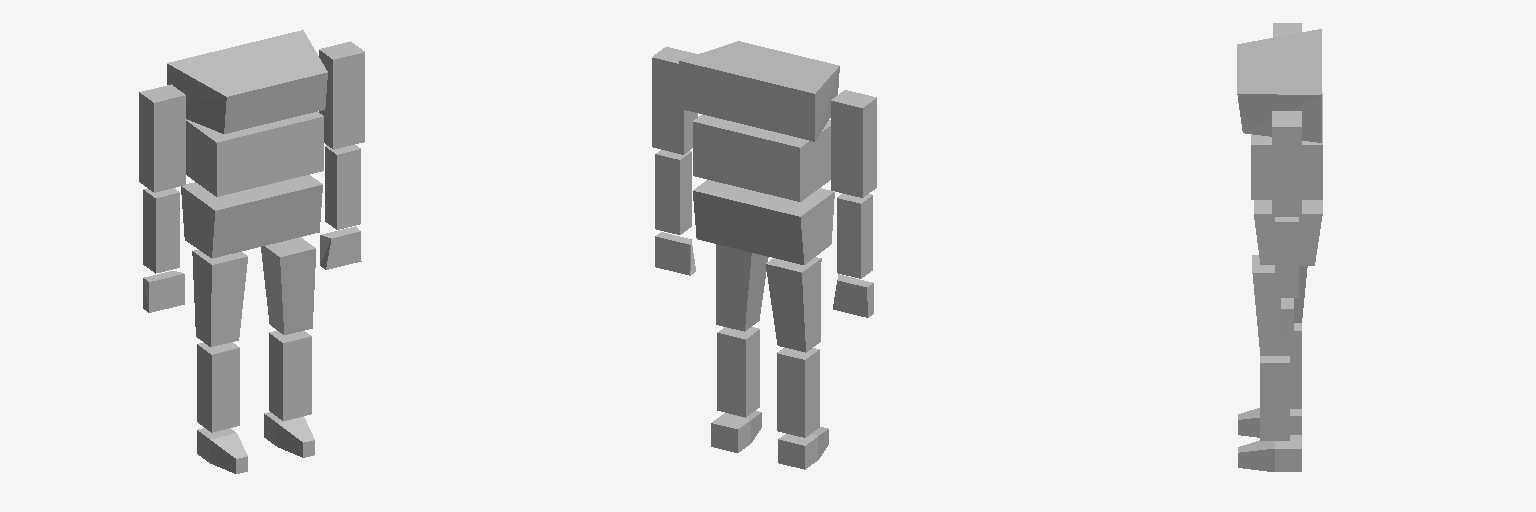
Rendered from player2.obj.
3 views of the same model, side by side, from view 1: azimuth 30°, elevation 25°; view 2: azimuth 150°, elevation 25°; view 3: azimuth 270°, elevation 25° (orthographic).
Parts seen in each view (by area): view 1: Cube.001; view 2: Cube.001; view 3: Cube.001.
Part boxes in pixels (x1,y1,x2,y2): Cube.001: (139,30,364,473); Cube.001: (652,41,876,469); Cube.001: (1237,23,1322,471).
Size of the model in its own units: 4.76 by 8.29 by 1.65.